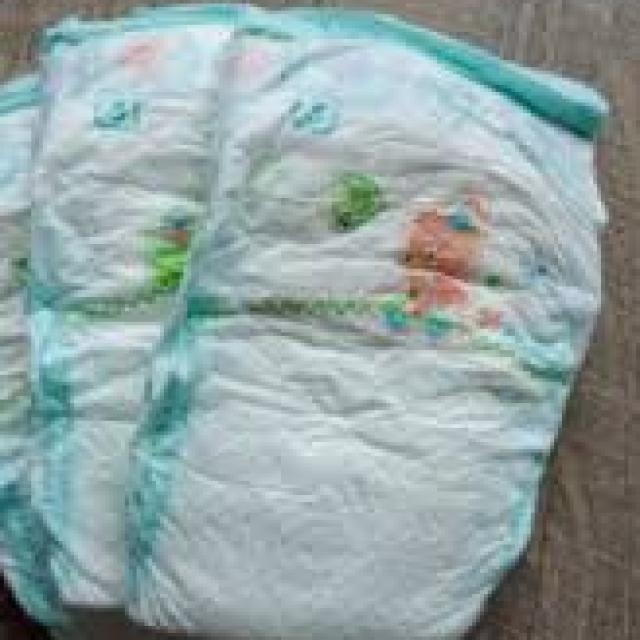organic: (11, 10, 605, 610)
